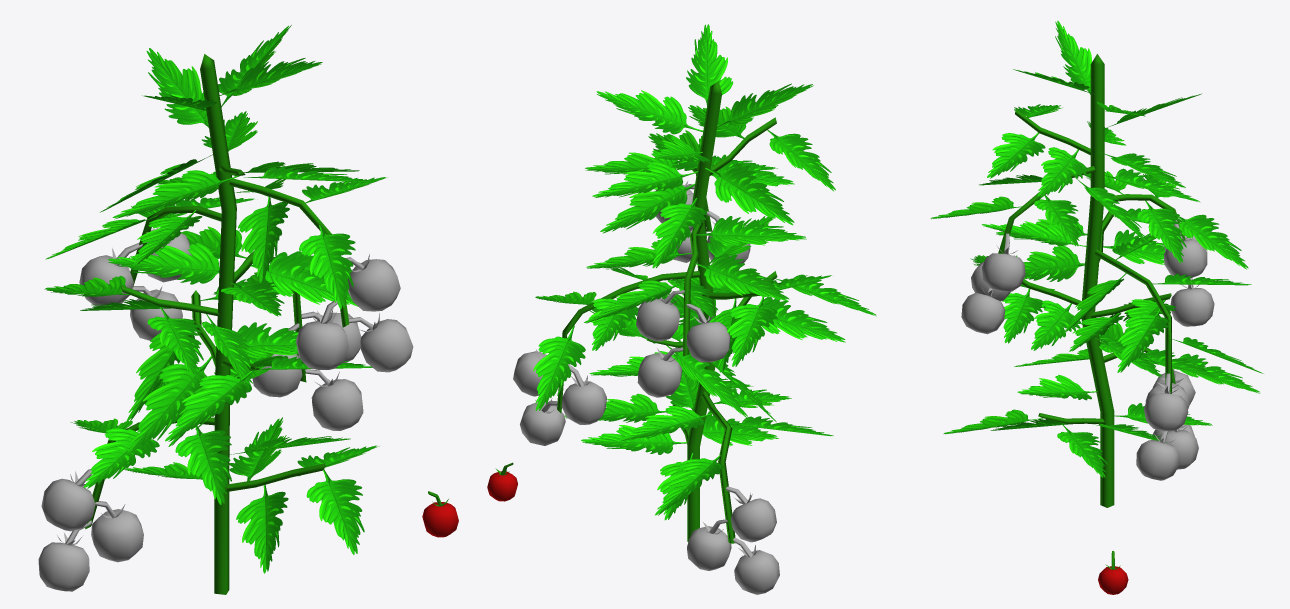
Rendered from Tomatoes Stage 3.fbx.
3 views of the same model, side by side, from view 1: azimuth 30°, elevation 25°; view 2: azimuth 150°, elevation 25°; view 3: azimuth 270°, elevation 25° (orthographic). The views are drawn at different scales.
Parts seen in each view (by area): view 1: Tomato_Plant_Body_Full_Grown, polySurface251, polySurface220, polySurface219, polySurface232, polySurface233, polySurface244, pCylinder41, pCylinder17, pCylinder27, pCylinder19, polySurface253 (+35 smaller); view 2: Tomato_Plant_Body_Full_Grown, polySurface252, polySurface224, polySurface259, polySurface227, polySurface254, Tomato_Leaf, polySurface240, polySurface229, pCylinder19, pCylinder21, pCylinder29 (+35 smaller); view 3: Tomato_Plant_Body_Full_Grown, pCylinder25, polySurface223, pCylinder37, pCylinder27, polySurface237, polySurface228, pCylinder39, pCylinder33, polySurface245, polySurface226, polySurface246 (+26 smaller).
Part boxes in pixels (x1=…): Tomato_Plant_Body_Full_Grown: x1=85, y1=54, x2=349, y2=594; polySurface251: x1=127, y1=356, x2=211, y2=453; polySurface220: x1=107, y1=243, x2=234, y2=284; polySurface219: x1=306, y1=469, x2=364, y2=554; polySurface232: x1=299, y1=225, x2=355, y2=309; polySurface233: x1=175, y1=426, x2=231, y2=504; polySurface244: x1=165, y1=370, x2=253, y2=441; pCylinder41: x1=296, y1=300, x2=348, y2=369; pCylinder17: x1=91, y1=501, x2=143, y2=562; pCylinder27: x1=305, y1=369, x2=363, y2=430; pCylinder19: x1=41, y1=469, x2=95, y2=531; polySurface253: x1=146, y1=48, x2=208, y2=127; Tomato_Plant_Body_Full_Grown: x1=557, y1=81, x2=777, y2=543; polySurface252: x1=705, y1=163, x2=794, y2=225; polySurface224: x1=533, y1=325, x2=585, y2=410; polySurface259: x1=596, y1=90, x2=703, y2=134; polySurface227: x1=695, y1=254, x2=789, y2=301; polySurface254: x1=686, y1=24, x2=733, y2=105; Tomato_Leaf: x1=652, y1=198, x2=706, y2=268; polySurface240: x1=727, y1=296, x2=777, y2=366; polySurface229: x1=600, y1=183, x2=695, y2=233; pCylinder19: x1=726, y1=486, x2=776, y2=542; pCylinder21: x1=733, y1=537, x2=779, y2=594; pCylinder29: x1=561, y1=364, x2=606, y2=424; Tomato_Plant_Body_Full_Grown: x1=998, y1=54, x2=1185, y2=507; pCylinder25: x1=1144, y1=373, x2=1188, y2=431; polySurface223: x1=1117, y1=309, x2=1169, y2=372; pCylinder37: x1=982, y1=233, x2=1025, y2=291; pCylinder27: x1=1136, y1=431, x2=1179, y2=480; polySurface237: x1=1023, y1=245, x2=1084, y2=281; polySurface228: x1=1177, y1=214, x2=1248, y2=269; pCylinder39: x1=961, y1=288, x2=1005, y2=334; pCylinder33: x1=1170, y1=278, x2=1214, y2=326; polySurface245: x1=1037, y1=147, x2=1087, y2=197; polySurface226: x1=1137, y1=200, x2=1186, y2=263; polySurface246: x1=987, y1=132, x2=1045, y2=178.
Bounding box in the file's own units: 1.63 × 2.19 × 1.54.
4 materials, 1 textured.
